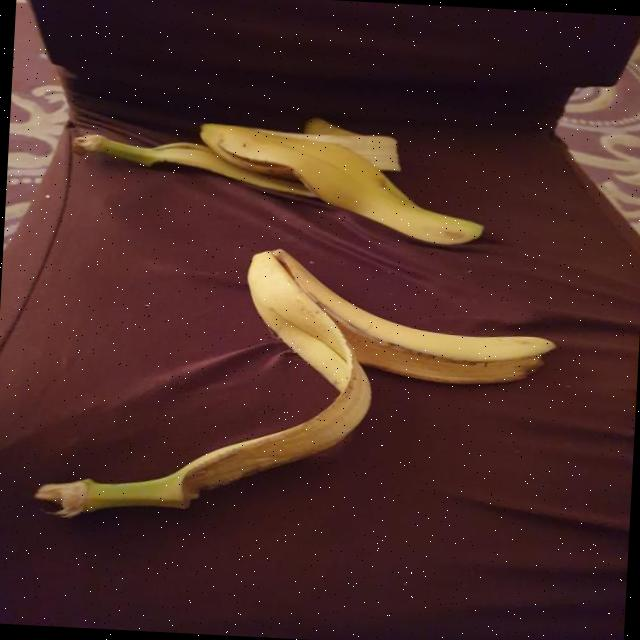banana-peel: (32, 237, 380, 534), (67, 110, 490, 250), (262, 247, 560, 391)
